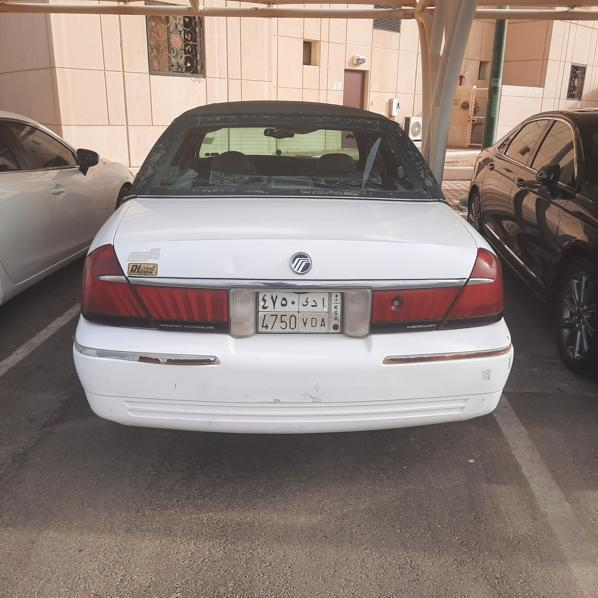numberplate: (257, 290, 342, 334)
